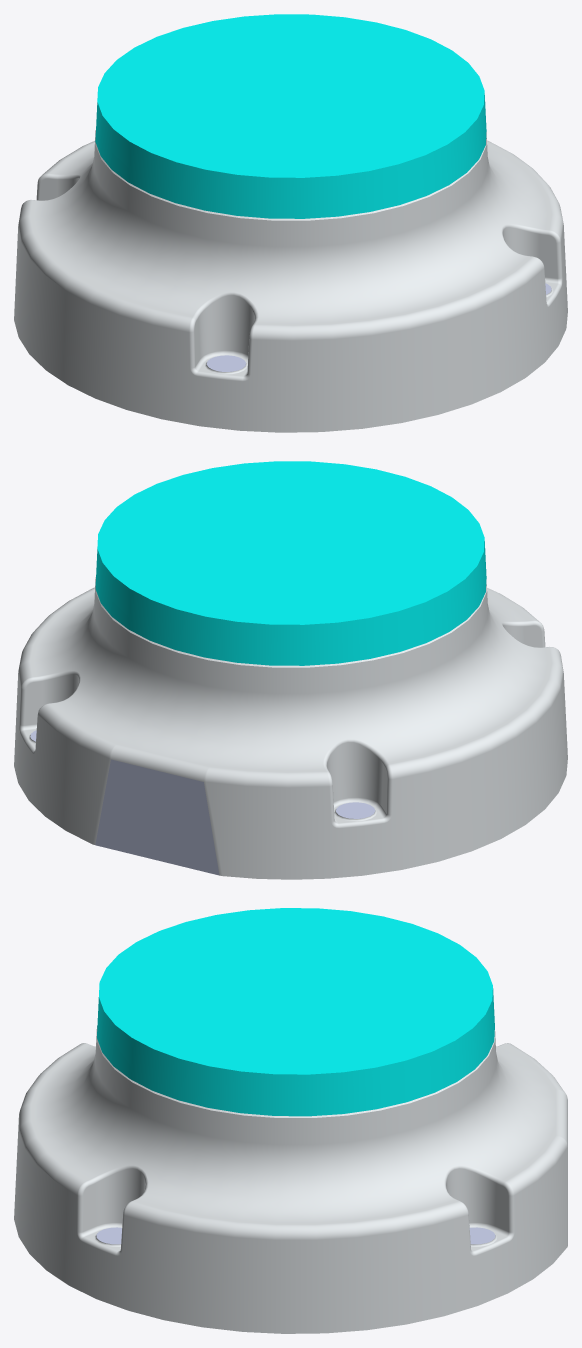
3 renders of one model, top to bottom at view 1: azimuth 30°, elevation 25°; view 2: azimuth 150°, elevation 25°; view 3: azimuth 270°, elevation 25°, orthographic.
Visible parts, largest first — view 1: FBXASC195FBXASC135FBXASC195FBXASC186FBXASC195FBXASC131FBXASC; view 2: FBXASC195FBXASC135FBXASC195FBXASC186FBXASC195FBXASC131FBXASC; view 3: FBXASC195FBXASC135FBXASC195FBXASC186FBXASC195FBXASC131FBXASC.
Part boxes in pixels (box(x1,y1,x2,y2)): FBXASC195FBXASC135FBXASC195FBXASC186FBXASC195FBXASC131FBXASC: box(14, 14, 567, 432); FBXASC195FBXASC135FBXASC195FBXASC186FBXASC195FBXASC131FBXASC: box(14, 461, 567, 879); FBXASC195FBXASC135FBXASC195FBXASC186FBXASC195FBXASC131FBXASC: box(14, 908, 567, 1333).
Bounding box in the file's own units: 0.1399 × 0.1375 × 0.0612.
